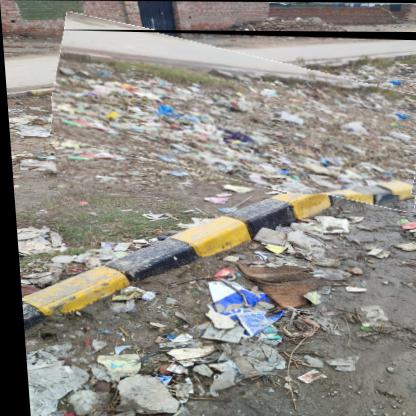Garbage: (46, 30, 416, 197)
